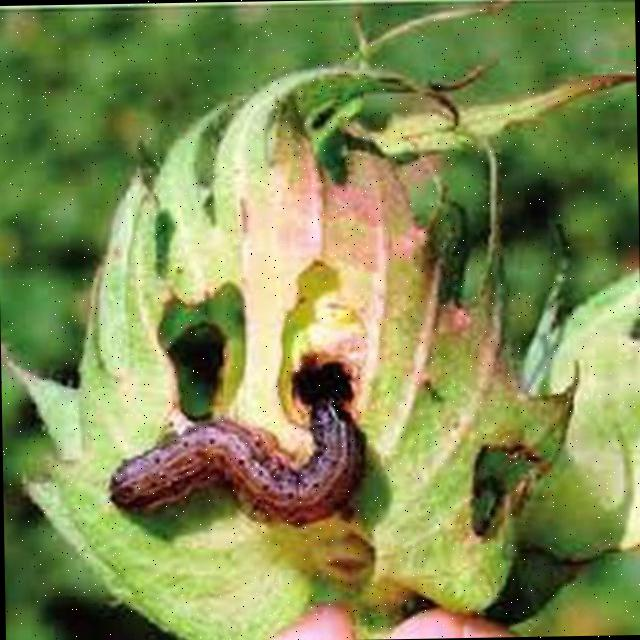worm: (108, 395, 370, 535)
